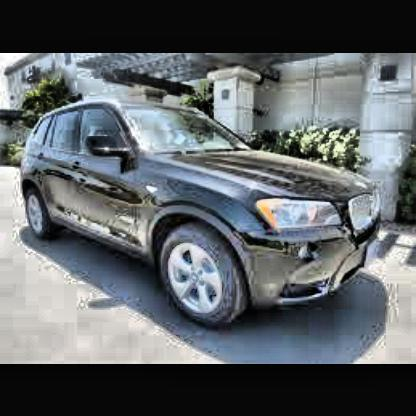BMW X3 SUV 2012: (22, 100, 384, 332)
